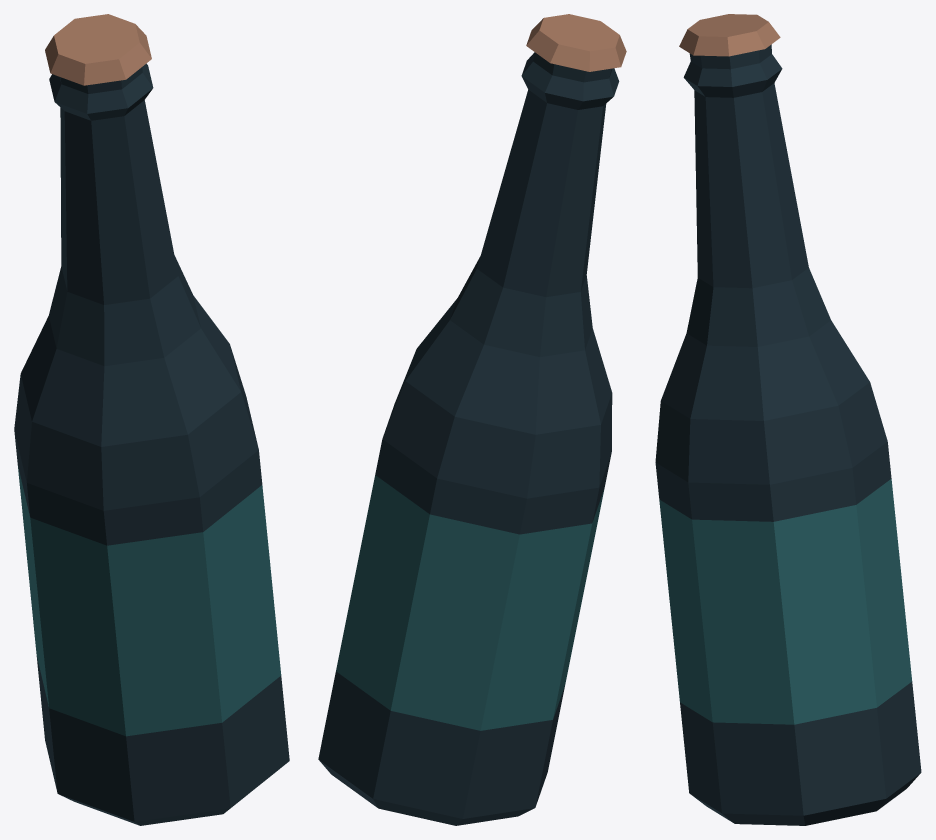
Rendered from FizzyDrink.ChortleBerryWine.c.fbx.
3 renders of one model, left to right at view 1: azimuth 30°, elevation 25°; view 2: azimuth 150°, elevation 25°; view 3: azimuth 270°, elevation 25°, orthographic. The views are drawn at different scales.
Parts seen in each view (by area): view 1: FizzyDrink.ChortleBerryWine.c; view 2: FizzyDrink.ChortleBerryWine.c; view 3: FizzyDrink.ChortleBerryWine.c.
Part boxes in pixels (left/top/right/bottom): FizzyDrink.ChortleBerryWine.c: left=14, top=14, right=289, bottom=825; FizzyDrink.ChortleBerryWine.c: left=318, top=14, right=626, bottom=825; FizzyDrink.ChortleBerryWine.c: left=655, top=14, right=921, bottom=825.
Size of the model in its own units: 46.45 by 135 by 43.67.
